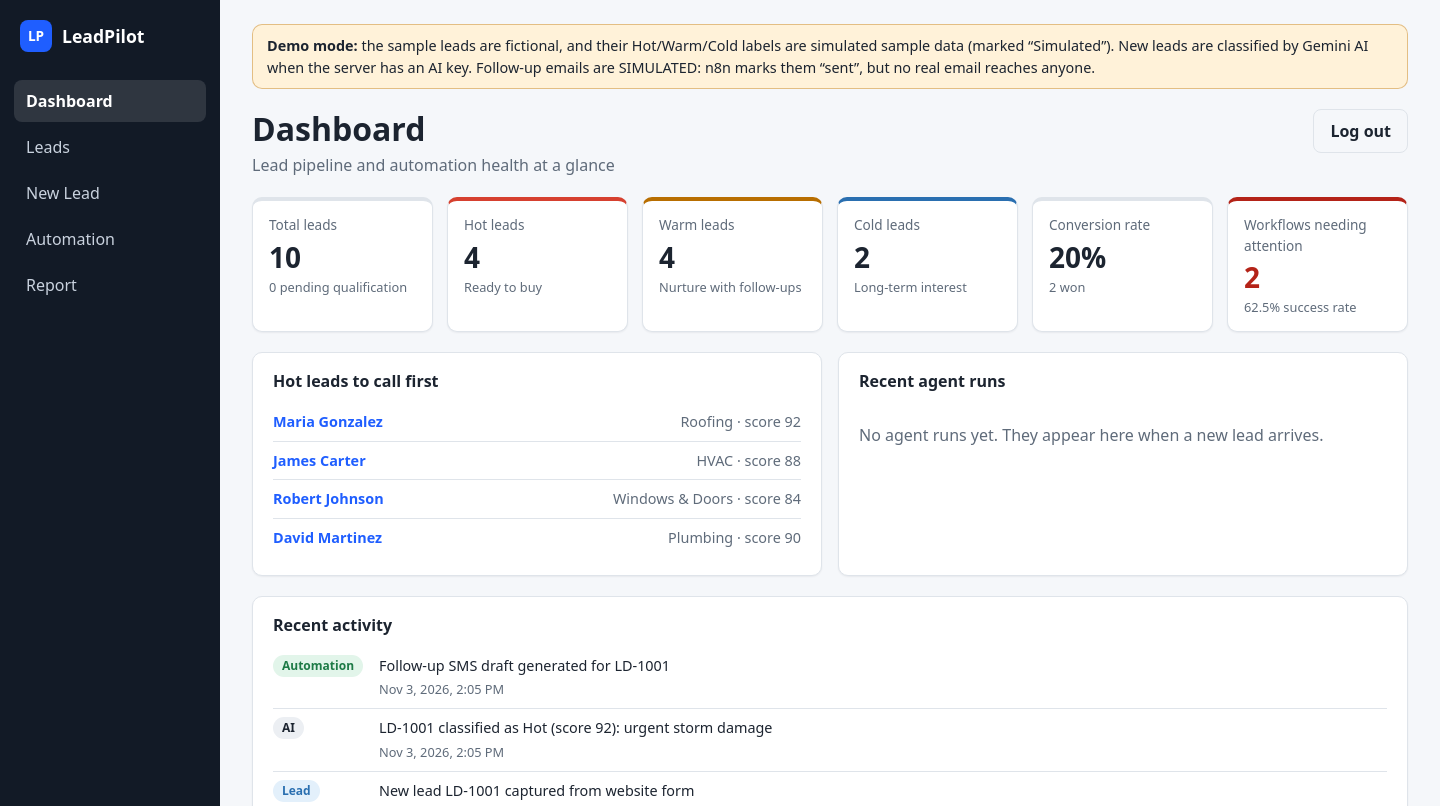
Test case: login gate › Log out → back to the login page
Check: the heading "Hot leads to call first" is shown, box [273, 370, 438, 392]
Step 1. Click the button "Log out" → (1361, 131), box [1313, 109, 1408, 153]
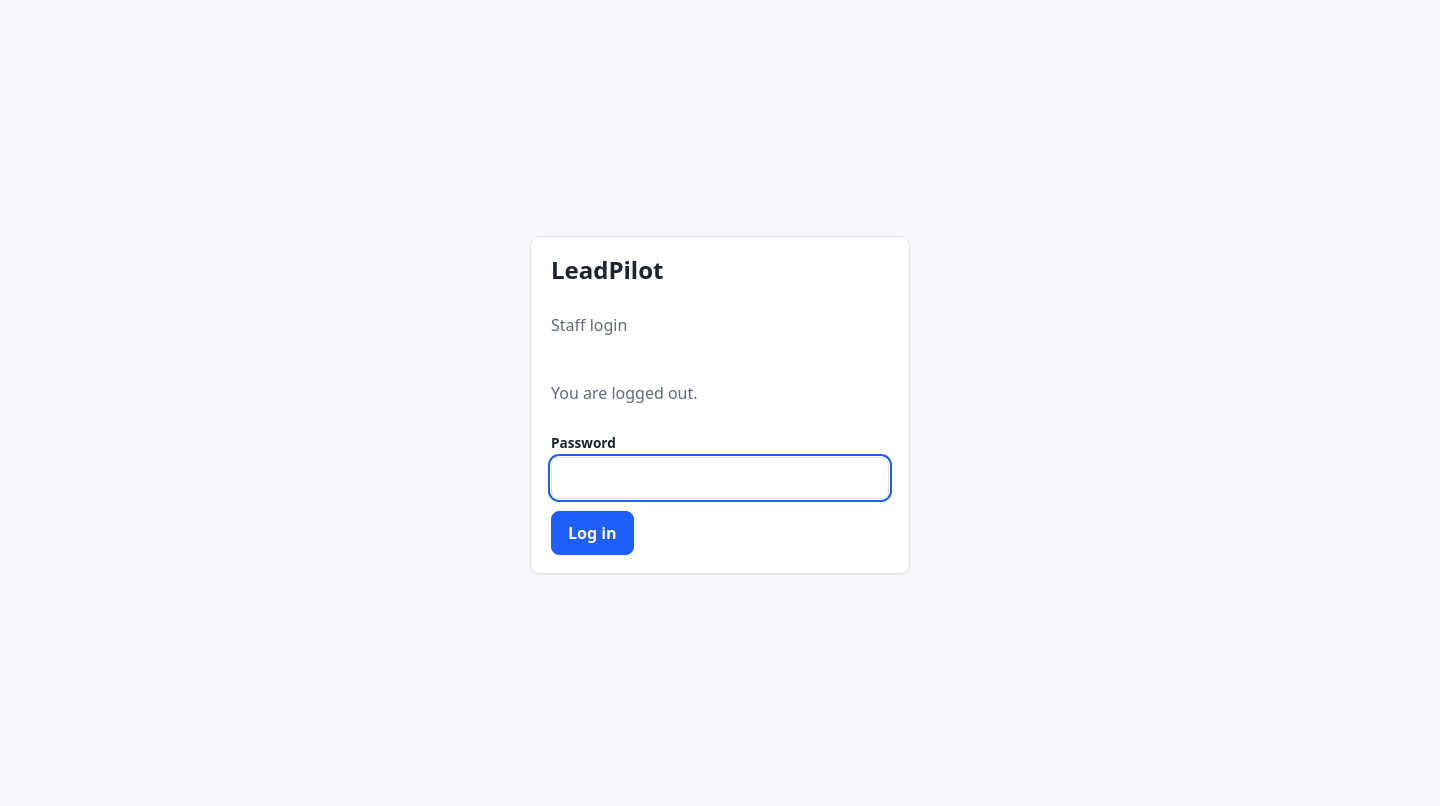
Check: the form named "Staff login" is shown, box [551, 365, 889, 555]
Check: the message reads "You are logged out.", box [551, 382, 698, 404]
